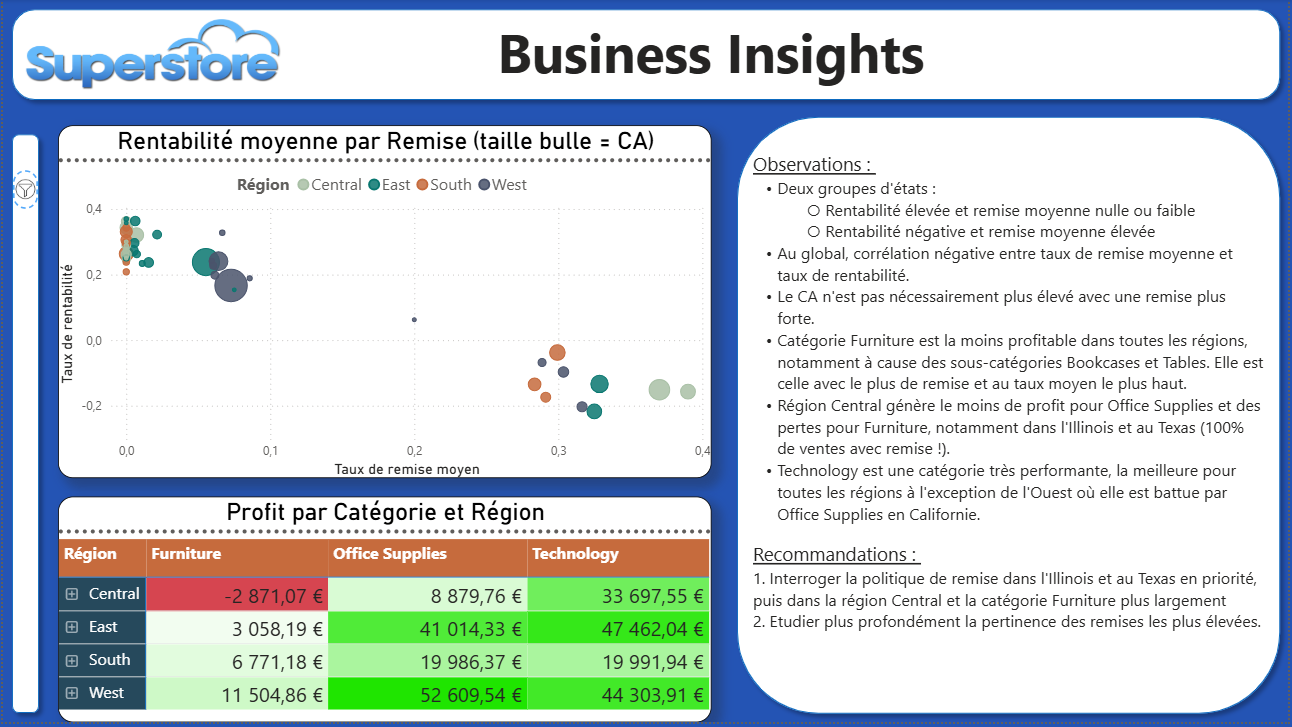

The page's visual inventory and layout, read from the dashboard file:
{"tool":"powerbi","page":{"name":"Business Insights","canvas":[1280,720],"ordinal":4},"visuals":[{"type":"pivotTable","title":"Profit par Catégorie et Région","fields":{"Columns":["df_dim_product.category","df_dim_product.sub_category"],"Rows":["df_dim_location.region","df_dim_location.state"],"Values":["Sum(df_facts.profit)"]},"box":[54.7,495.1,650.4,225],"z":0},{"type":"scatterChart","title":"Rentabilité moyenne par Remise (taille bulle = CA)","fields":{"Category":["df_dim_location.state"],"Series":["df_dim_location.region"],"Size":["Sum(df_facts.total_sales)"],"X":["Mesure.Taux de remise moyen"],"Y":["Mesure.Taux de rentabilité"]},"box":[54.7,125.6,650.4,351.3],"z":1000},{"type":"shape","box":[721.5,108.2,558.5,612],"z":2000},{"type":"textbox","box":[741.4,146.8,518.7,536.1],"z":3000},{"type":"shape","box":[0,1.2,1280,108.2],"z":4000},{"type":"textbox","box":[325,11.4,759.5,97.6],"z":5000},{"type":"image","box":[20,11.4,258,85.5],"z":6000},{"type":"shape","box":[0,126,44.8,594],"z":7000},{"type":"image","box":[10,170,25,38],"z":8000}]}

Visuals, with their boxes in screenshot pixels (x1, y1, x2, y2), scaled from the page's 1280x720 canvas onto the 1292x727 screenshot:
"Profit par Catégorie et Région" pivotTable: [left=55, top=500, right=712, bottom=726]
"Rentabilité moyenne par Remise (taille bulle = CA)" scatterChart: [left=55, top=127, right=712, bottom=482]
shape: [left=728, top=109, right=1291, bottom=726]
textbox: [left=748, top=148, right=1272, bottom=690]
shape: [left=0, top=1, right=1291, bottom=110]
textbox: [left=328, top=12, right=1095, bottom=110]
image: [left=20, top=12, right=281, bottom=98]
shape: [left=0, top=127, right=45, bottom=726]
image: [left=10, top=172, right=35, bottom=210]
